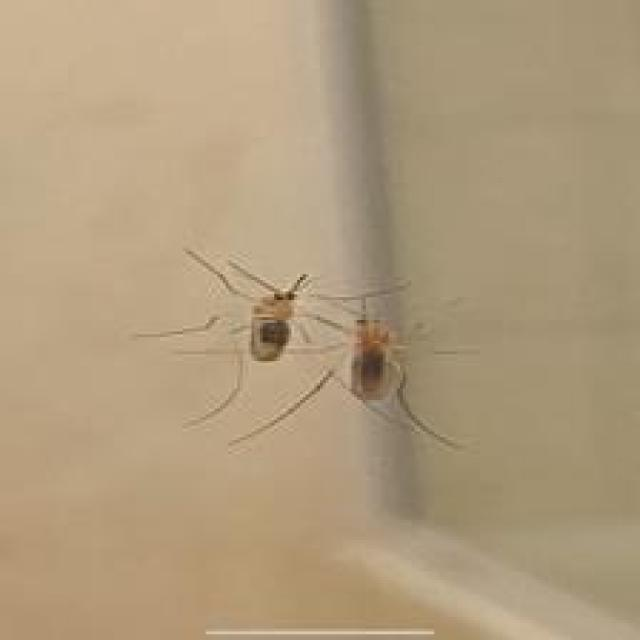Culex: (132, 244, 472, 456)
